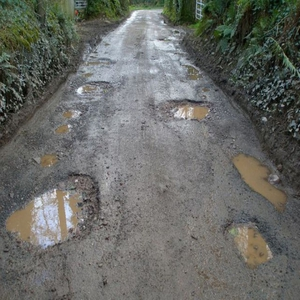pothole: (5, 171, 97, 251), (228, 149, 291, 214), (222, 219, 277, 268), (157, 96, 215, 122), (79, 82, 112, 99)
